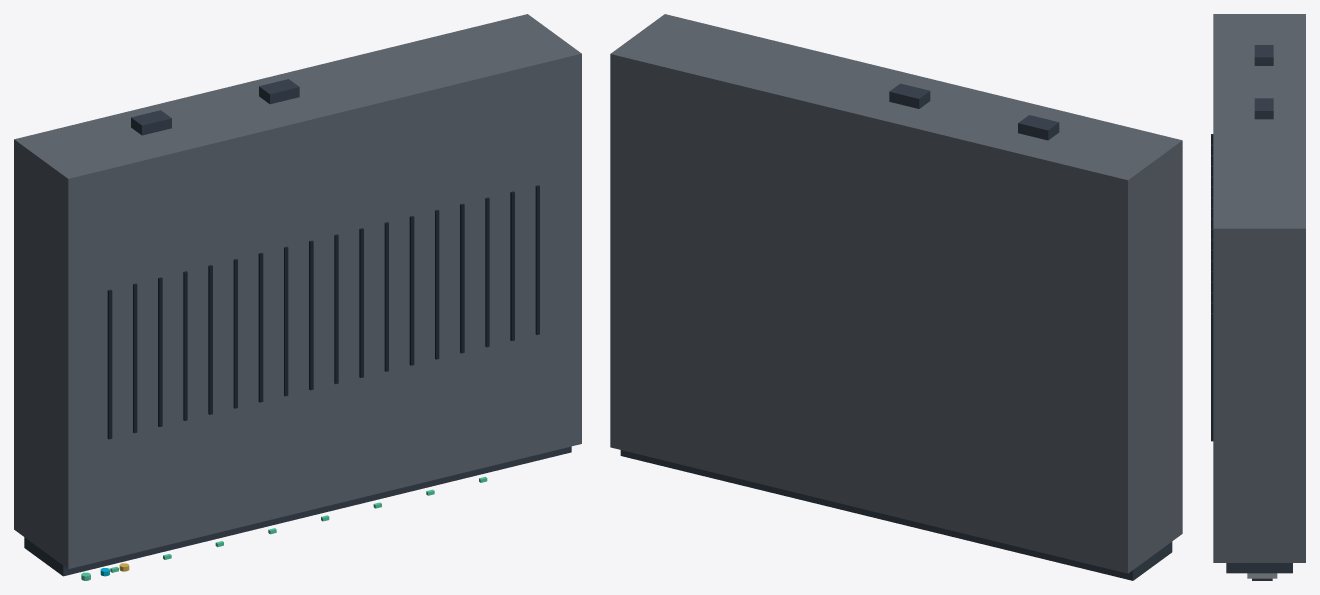
The model's file is olt_gpon_16port.glb.
3 views of the same model, side by side, from view 1: azimuth 30°, elevation 25°; view 2: azimuth 150°, elevation 25°; view 3: azimuth 270°, elevation 25° (orthographic). The views are drawn at different scales.
Parts seen in each view (by area): view 1: 000_olt chassis, 001_front fascia, 050_top ventilation slot 1, 056_top ventilation slot 7, 062_top ventilation slot 13, 072_rear power inlet 2, 071_rear power inlet 1, 051_top ventilation slot 2, 053_top ventilation slot 4, 054_top ventilation slot 5, 057_top ventilation slot 8, 059_top ventilation slot 10 (+10 smaller); view 2: 000_olt chassis, 001_front fascia, 072_rear power inlet 2, 071_rear power inlet 1; view 3: 000_olt chassis, 001_front fascia, 072_rear power inlet 2, 071_rear power inlet 1, 067_top ventilation slot 18, 048_SFP uplink cage 4.
Boxes of the visible parts, x1,y1,x2,y2 form: 000_olt chassis: (14,14,581,569); 001_front fascia: (24,446,571,576); 050_top ventilation slot 1: (107,289,112,439); 056_top ventilation slot 7: (258,252,263,402); 062_top ventilation slot 13: (409,216,414,365); 072_rear power inlet 2: (259,79,299,104); 071_rear power inlet 1: (131,110,171,135); 051_top ventilation slot 2: (133,283,137,433); 053_top ventilation slot 4: (183,271,187,420); 054_top ventilation slot 5: (208,265,212,414); 057_top ventilation slot 8: (284,246,288,396); 059_top ventilation slot 10: (334,234,338,384); 000_olt chassis: (610,14,1182,573); 001_front fascia: (620,450,1172,580); 072_rear power inlet 2: (889,83,930,108); 071_rear power inlet 1: (1018,115,1059,140); 000_olt chassis: (1213,14,1305,562); 001_front fascia: (1226,563,1292,573); 072_rear power inlet 2: (1254,98,1273,119); 071_rear power inlet 1: (1254,45,1273,65); 067_top ventilation slot 18: (1211,313,1213,441); 048_SFP uplink cage 4: (1247,573,1277,578).
Bounding box in the file's own units: 0.482 × 0.3845 × 0.09.
